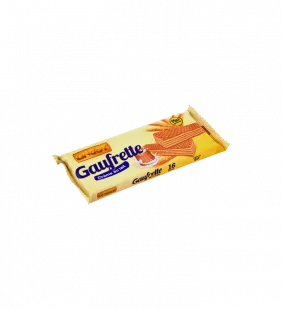LINGOT: (44, 99, 236, 212)
